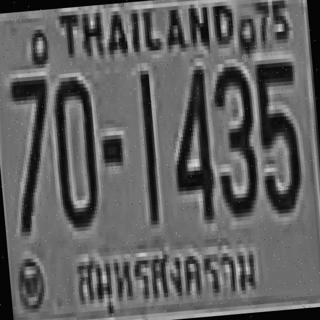N00: (50, 72, 100, 225)
N01: (137, 70, 160, 221)
N03: (209, 62, 259, 215)
N04: (164, 64, 214, 220)
N05: (252, 58, 304, 210)
N07: (6, 72, 57, 232)
P59: (66, 232, 260, 320)
